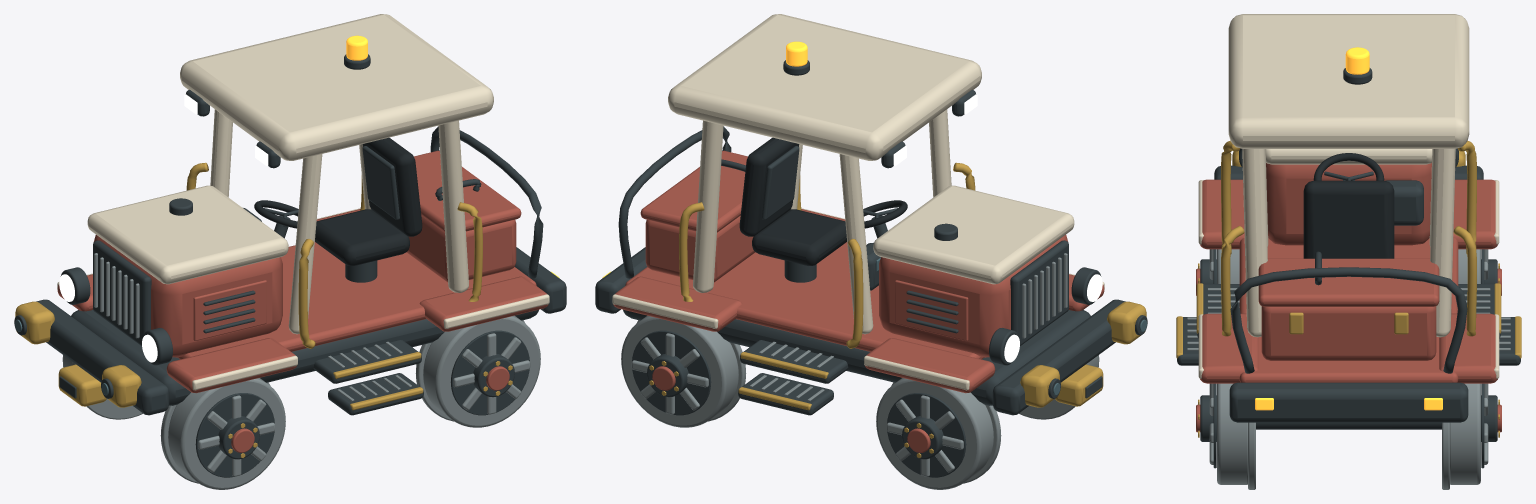
Rendered from rail_inspection_trolley.glb.
The picture shows the model from 3 angles, left to right: view 1: azimuth 30°, elevation 25°; view 2: azimuth 150°, elevation 25°; view 3: azimuth 270°, elevation 25°; orthographic projection. The views are drawn at different scales.
Parts seen in each view (by area): view 1: RoundedProtectiveRoof, IvoryHoodCap, WalkDeck, RoundedHood, MainChassis, RailWheel_2_L_SteelTread, RailWheel_1_L_SteelTread, FrontSensorCrossbar, OperatorSeatCushion, ToolboxBody, RearCabPillar_-1, ToolboxLid (+30 smaller); view 2: RoundedProtectiveRoof, IvoryHoodCap, WalkDeck, RoundedHood, MainChassis, RailWheel_2_R_SteelTread, RailWheel_1_R_SteelTread, FrontSensorCrossbar, OperatorSeatCushion, ToolboxBody, RearCabPillar_1, ToolboxLid (+30 smaller); view 3: RoundedProtectiveRoof, RearBuffer, ToolboxBody, OperatorSeatBack, ToolboxLid, WalkDeck, RoundedHood, RearSafetyRail, RearCabPillar_-1, RearCabPillar_1, WheelGuard_-1_1, WheelGuard_1_1 (+24 smaller).
Boxes of the visible parts, x1,y1,x2,y2 form: RoundedProtectiveRoof: (180, 14, 493, 160); IvoryHoodCap: (87, 185, 288, 284); WalkDeck: (177, 242, 536, 359); RoundedHood: (94, 235, 282, 357); MainChassis: (71, 309, 538, 405); RailWheel_2_L_SteelTread: (423, 315, 540, 427); RailWheel_1_L_SteelTread: (168, 378, 285, 489); FrontSensorCrossbar: (36, 299, 169, 415); OperatorSeatCushion: (315, 209, 409, 265); ToolboxBody: (406, 215, 516, 282); RearCabPillar_-1: (438, 120, 468, 292); ToolboxLid: (414, 150, 521, 232); RoundedProtectiveRoof: (668, 14, 981, 160); IvoryHoodCap: (873, 185, 1074, 284); WalkDeck: (625, 242, 984, 359); RoundedHood: (879, 235, 1067, 357); MainChassis: (623, 309, 1090, 405); RailWheel_2_R_SteelTread: (621, 315, 738, 427); RailWheel_1_R_SteelTread: (876, 378, 993, 489); FrontSensorCrossbar: (992, 299, 1125, 415); OperatorSeatCushion: (752, 209, 846, 265); ToolboxBody: (645, 215, 755, 282); RearCabPillar_1: (693, 120, 723, 292); ToolboxLid: (640, 150, 747, 232); RoundedProtectiveRoof: (1228, 14, 1469, 148); RearBuffer: (1229, 382, 1468, 422); ToolboxBody: (1261, 306, 1436, 360); OperatorSeatBack: (1303, 180, 1394, 258); ToolboxLid: (1258, 258, 1439, 306); WalkDeck: (1239, 238, 1458, 382); RoundedHood: (1266, 163, 1431, 245); RearSafetyRail: (1230, 267, 1467, 373); RearCabPillar_-1: (1242, 149, 1267, 337); RearCabPillar_1: (1430, 149, 1455, 337); WheelGuard_-1_1: (1200, 313, 1258, 383); WheelGuard_1_1: (1439, 313, 1497, 383).
Size of the model in its own units: 3.95 by 3 by 2.37.
